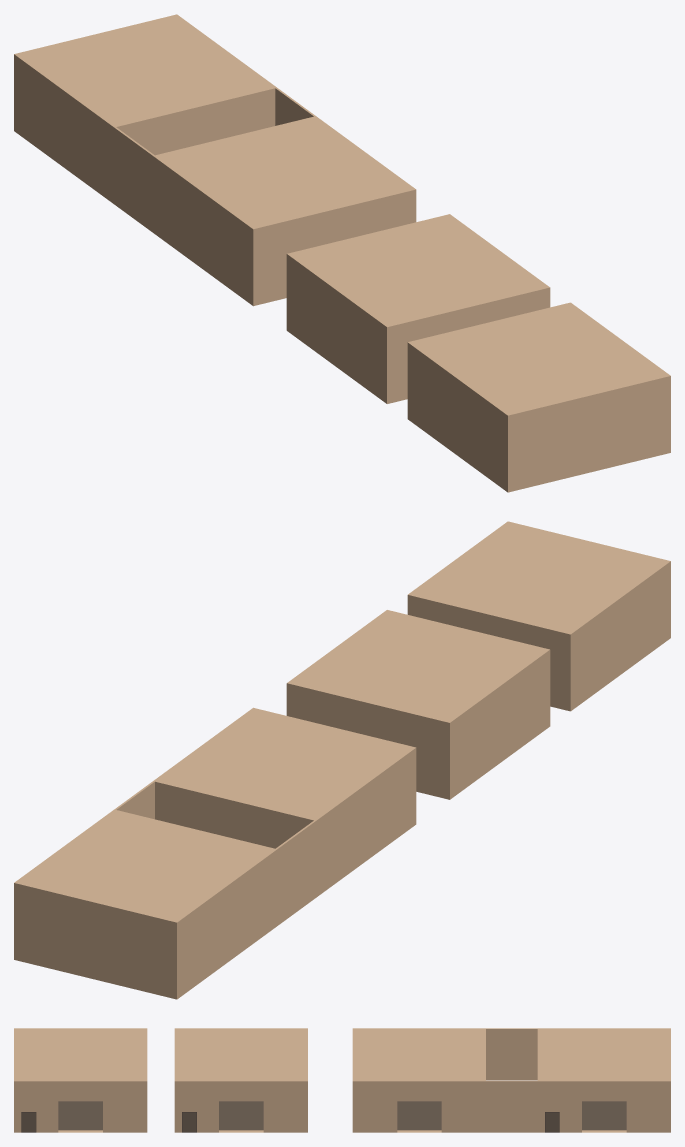
File: depots.gltf
The picture shows the model from 3 angles, top to bottom: view 1: azimuth 30°, elevation 25°; view 2: azimuth 150°, elevation 25°; view 3: azimuth 270°, elevation 25°; orthographic projection. The views are drawn at different scales.
Parts seen in each view (by area): view 1: depots; view 2: depots; view 3: depots.
Boxes of the visible parts, left/top/right/bottom form: depots: left=14, top=14, right=670, bottom=492; depots: left=14, top=521, right=670, bottom=999; depots: left=14, top=1028, right=670, bottom=1132.
Size of the model in its own units: 33.38 by 15.05 by 175.
Materials: 1 (1 with a texture image).
